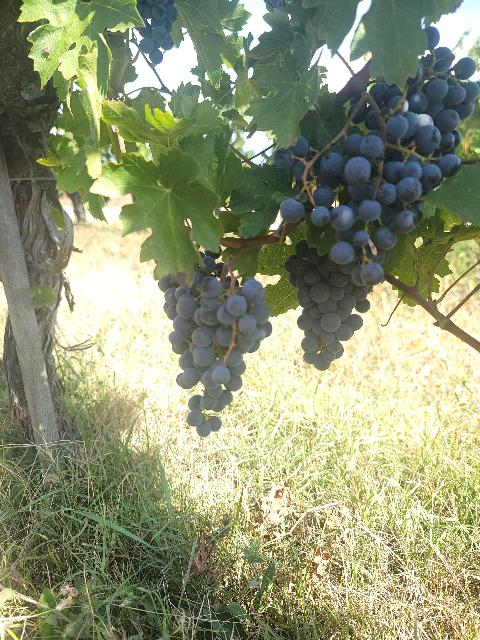grapes: (330, 114, 460, 265), (164, 278, 271, 436), (284, 240, 370, 371)
